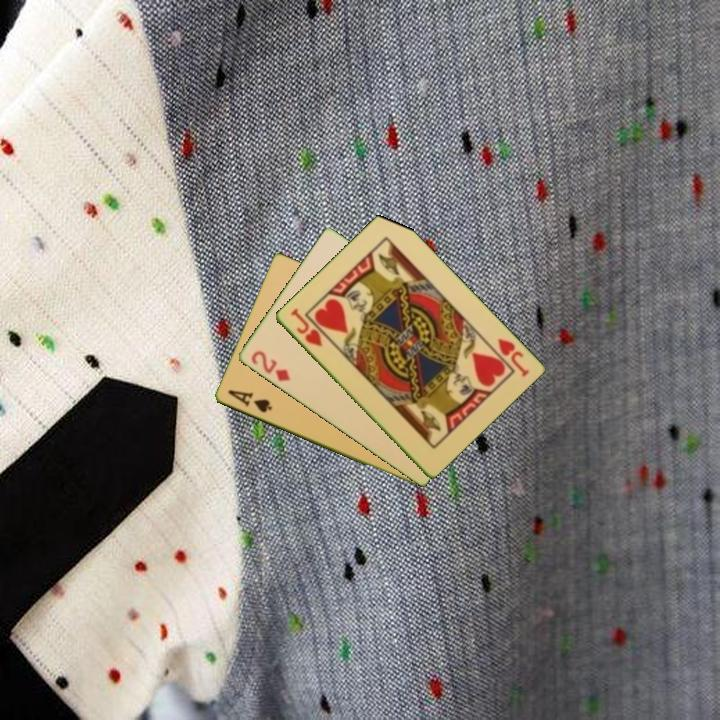2d: (247, 347, 293, 384)
As: (224, 386, 274, 416)
Jh: (287, 305, 325, 350), (494, 335, 532, 380)
